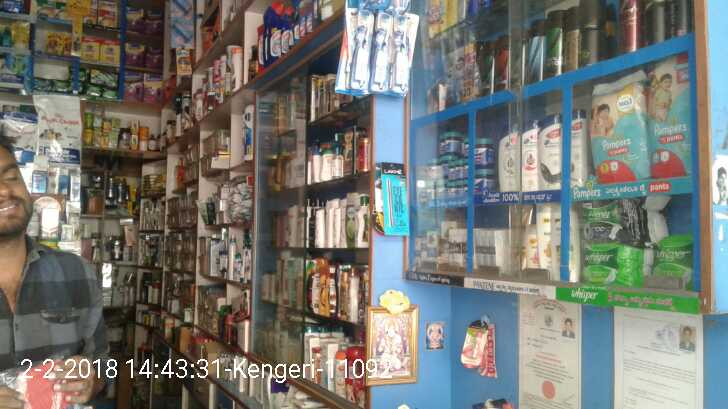beauty: (538, 113, 561, 191), (498, 123, 521, 191), (471, 226, 500, 274), (520, 118, 538, 194), (527, 223, 551, 280)
pharmacy: (645, 57, 697, 184), (590, 78, 649, 183), (577, 199, 648, 250), (579, 243, 652, 289), (649, 229, 697, 281), (442, 159, 473, 186), (471, 137, 495, 169), (470, 170, 495, 197), (442, 128, 465, 157)
